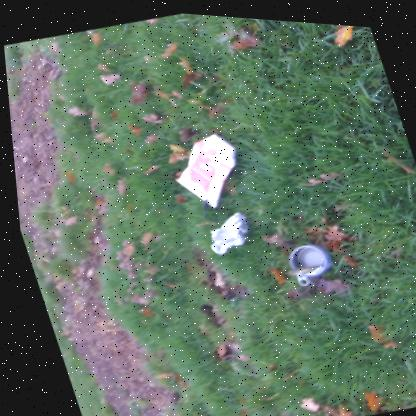Metal: (283, 240, 326, 282), (205, 209, 245, 252), (291, 269, 302, 282)
Paper: (173, 131, 232, 206)
Plastic: (199, 196, 203, 213)
